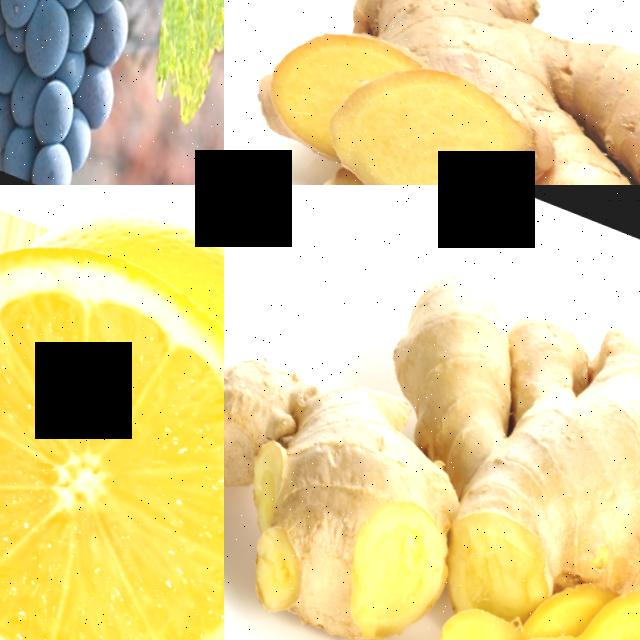ginger: (344, 224, 640, 577), (224, 308, 491, 640), (224, 0, 640, 185)
grapes: (0, 0, 224, 185)
lemon: (0, 185, 224, 640)
